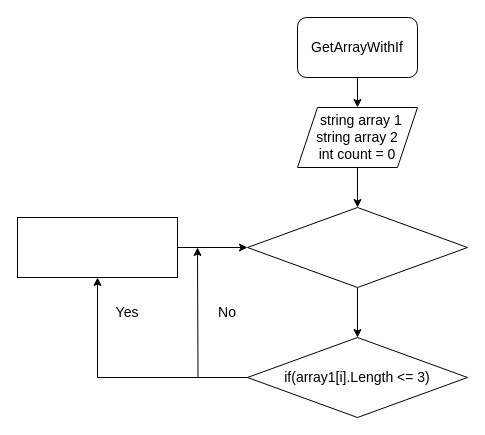
This 485x435 diagram has some shape labels left out. The box of each missing label's shape, as (x1, y1, x2, y2) in pixels:
array2[count] = array1[i]; count++;: (16, 216, 178, 278)
for (int i = 0; i < array1.Length; i++): (246, 206, 468, 288)
